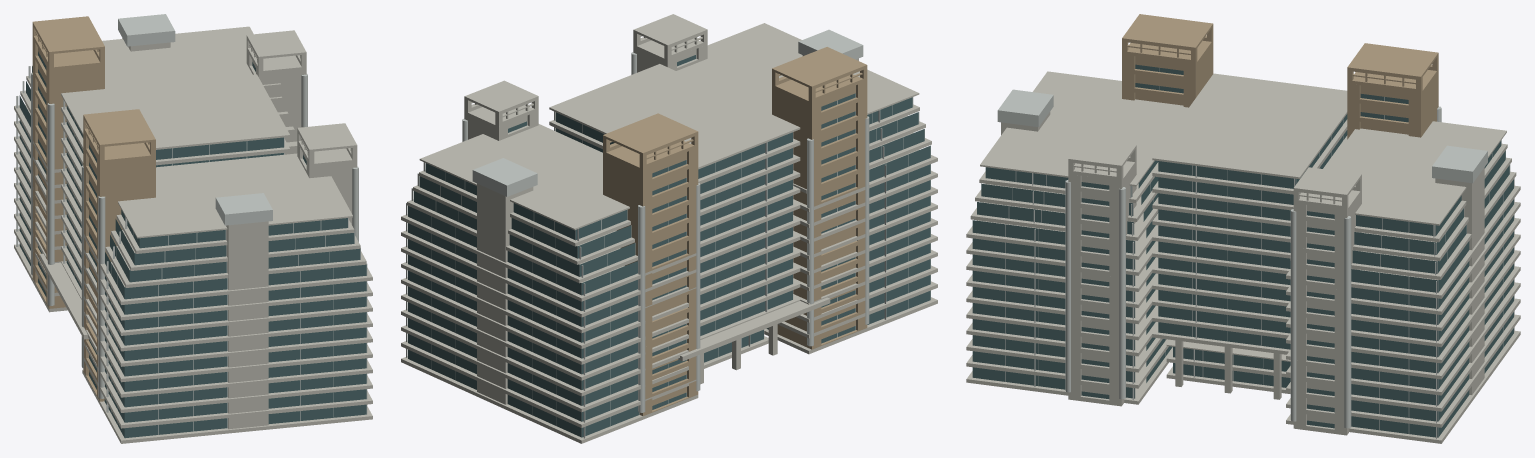
The model's file is edificio-inteligente-epm-far.glb.
3 renders of one model, left to right at view 1: azimuth 30°, elevation 25°; view 2: azimuth 150°, elevation 25°; view 3: azimuth 270°, elevation 25°, orthographic. The views are drawn at different scales.
Visible parts, largest first — view 1: edificio-inteligente-epm-0-concrete, edificio-inteligente-epm-0-glass, edificio-inteligente-epm-0-core, edificio-inteligente-epm-0-aluminium; view 2: edificio-inteligente-epm-0-concrete, edificio-inteligente-epm-0-glass, edificio-inteligente-epm-0-core, edificio-inteligente-epm-0-aluminium; view 3: edificio-inteligente-epm-0-concrete, edificio-inteligente-epm-0-glass, edificio-inteligente-epm-0-core, edificio-inteligente-epm-0-aluminium.
Boxes of the visible parts, x1,y1,x2,y2 form: edificio-inteligente-epm-0-concrete: [14, 26, 372, 443]; edificio-inteligente-epm-0-glass: [19, 51, 366, 438]; edificio-inteligente-epm-0-core: [32, 16, 155, 401]; edificio-inteligente-epm-0-aluminium: [16, 14, 367, 434]; edificio-inteligente-epm-0-concrete: [401, 14, 937, 443]; edificio-inteligente-epm-0-glass: [408, 55, 930, 437]; edificio-inteligente-epm-0-core: [603, 47, 867, 415]; edificio-inteligente-epm-0-aluminium: [406, 29, 930, 438]; edificio-inteligente-epm-0-concrete: [966, 71, 1520, 443]; edificio-inteligente-epm-0-glass: [972, 64, 1513, 437]; edificio-inteligente-epm-0-core: [1122, 14, 1438, 139]; edificio-inteligente-epm-0-aluminium: [997, 68, 1514, 439].
Size of the model in its own units: 94.16 by 70 by 129.
